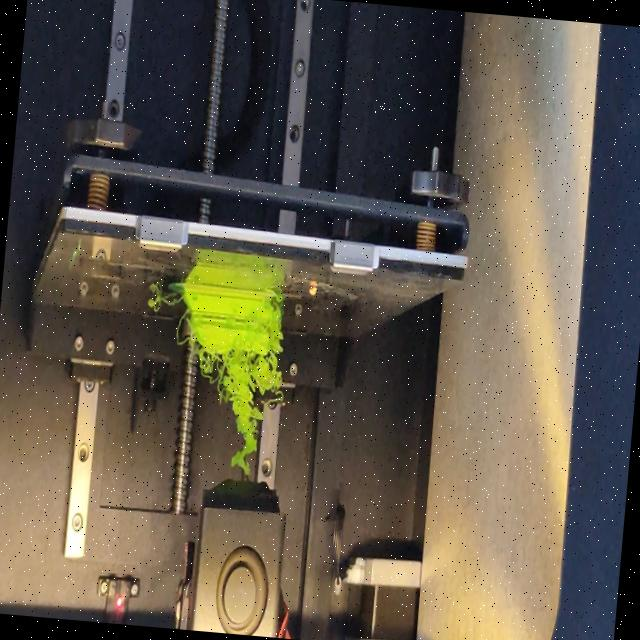spaghetti: (186, 340, 284, 477), (266, 282, 290, 348), (140, 286, 180, 316), (173, 312, 189, 353)
